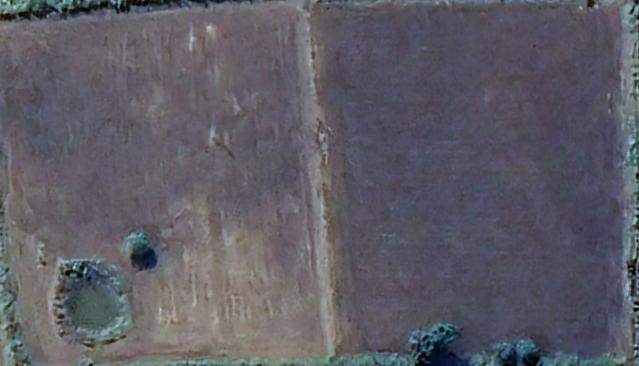Farms: (301, 4, 628, 360), (0, 7, 327, 358)
